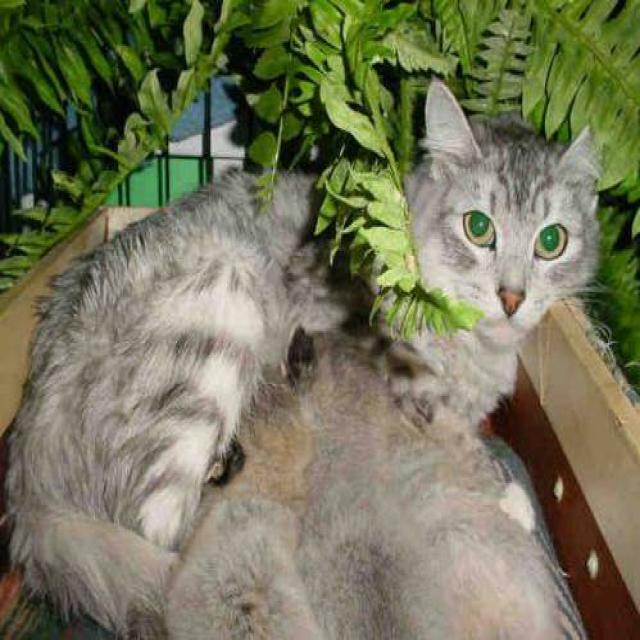cat: (0, 53, 616, 640)
